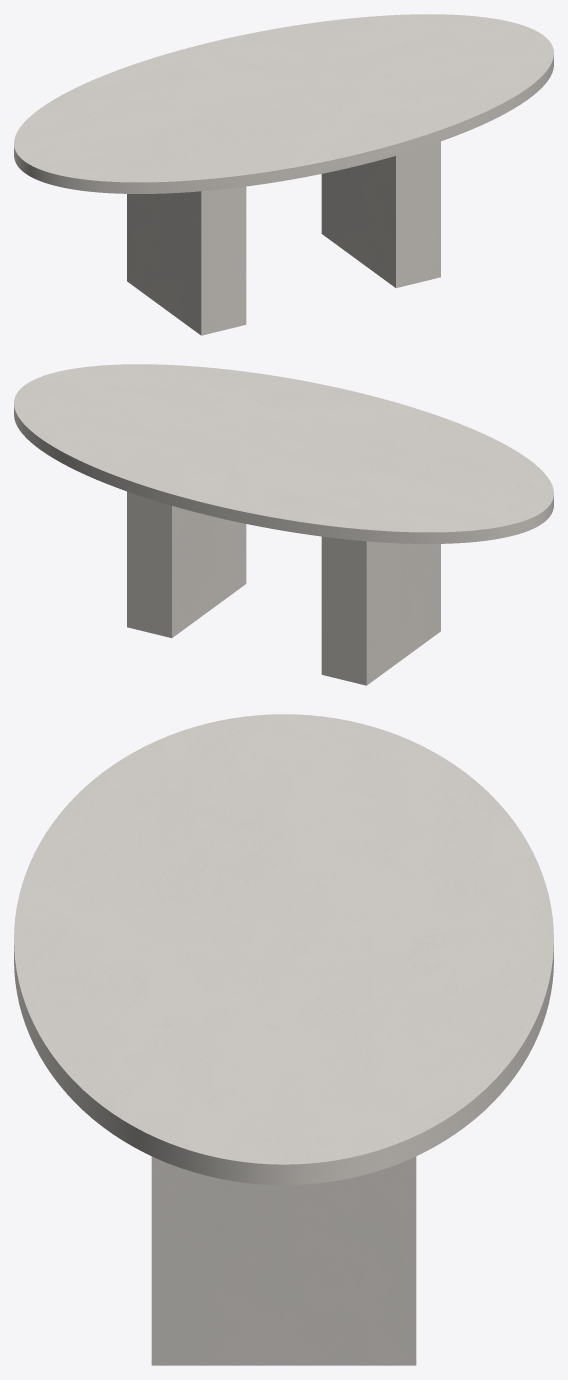
The model's file is pearlwhite_ellips_standard_ridge.glb.
The picture shows the model from 3 angles, top to bottom: view 1: azimuth 30°, elevation 25°; view 2: azimuth 150°, elevation 25°; view 3: azimuth 270°, elevation 25°; orthographic projection. The views are drawn at different scales.
Parts seen in each view (by area): view 1: standard_ellips, ridge; view 2: standard_ellips, ridge; view 3: standard_ellips, ridge.
Boxes of the visible parts, x1=… form: standard_ellips: x1=14, y1=14, x2=553, y2=193; ridge: x1=127, y1=141, x2=440, y2=335; standard_ellips: x1=14, y1=364, x2=553, y2=543; ridge: x1=127, y1=491, x2=440, y2=685; standard_ellips: x1=14, y1=714, x2=553, y2=1185; ridge: x1=151, y1=1156, x2=416, y2=1365.
Bounding box in the file's own units: 7.5 × 2.5 × 3.8.
1 material, 1 textured.
